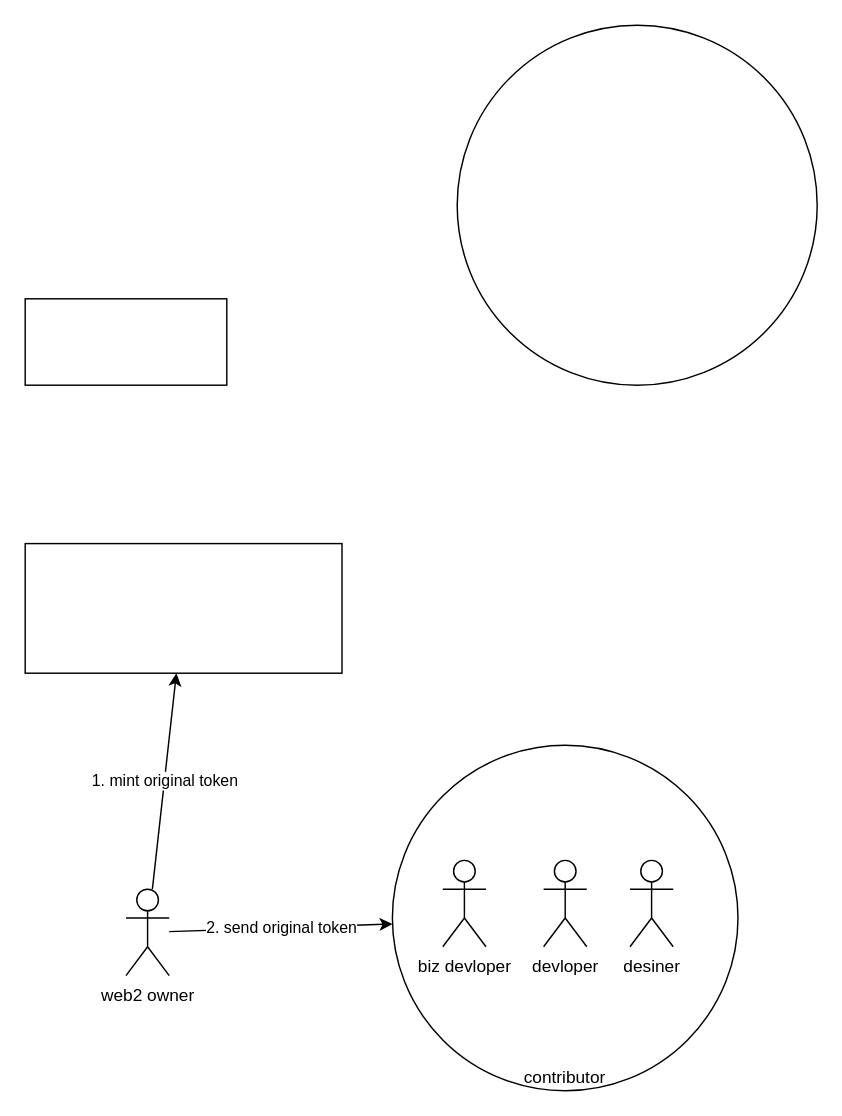
This 842x1116 diagram has some shape labels left out. The centre of each missing label's shape, as x and y in pixels:
"Chain" goes at (x=183, y=607).
"dex or cex" goes at (x=636, y=204).
"web2 service" goes at (x=125, y=341).
